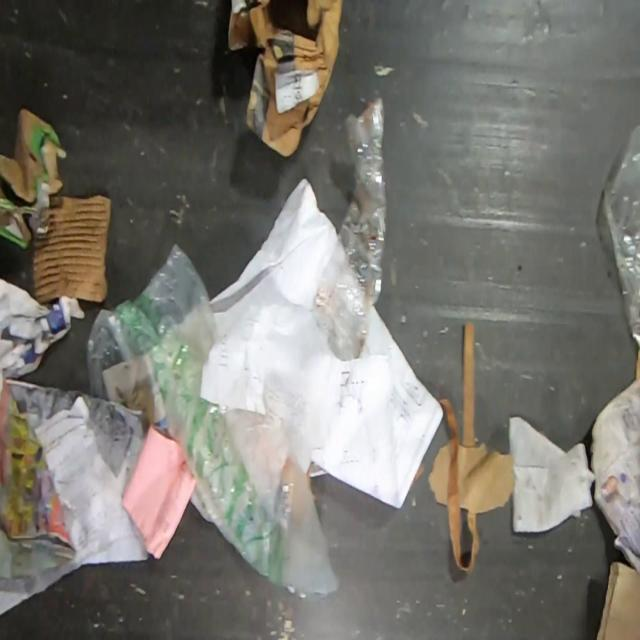cardboard: (226, 0, 344, 159), (0, 106, 68, 250), (31, 193, 112, 305), (457, 442, 513, 513), (594, 562, 640, 640), (426, 439, 451, 506)
soft_plastic: (85, 242, 342, 601), (312, 96, 388, 361), (599, 121, 640, 353)
